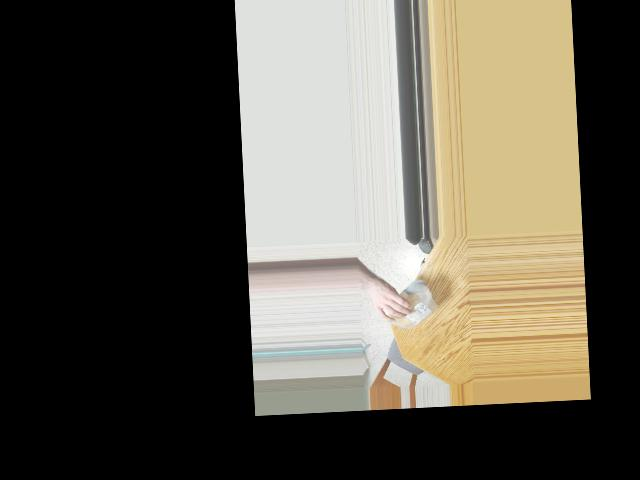cheese: (379, 285, 440, 334)
